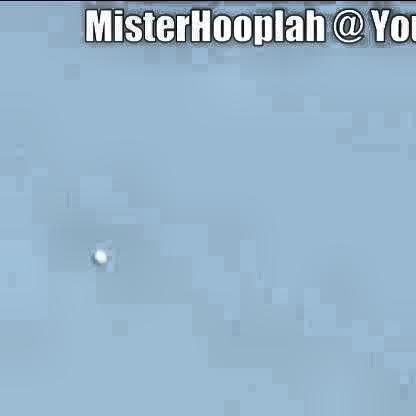golfball: (90, 247, 108, 263)
